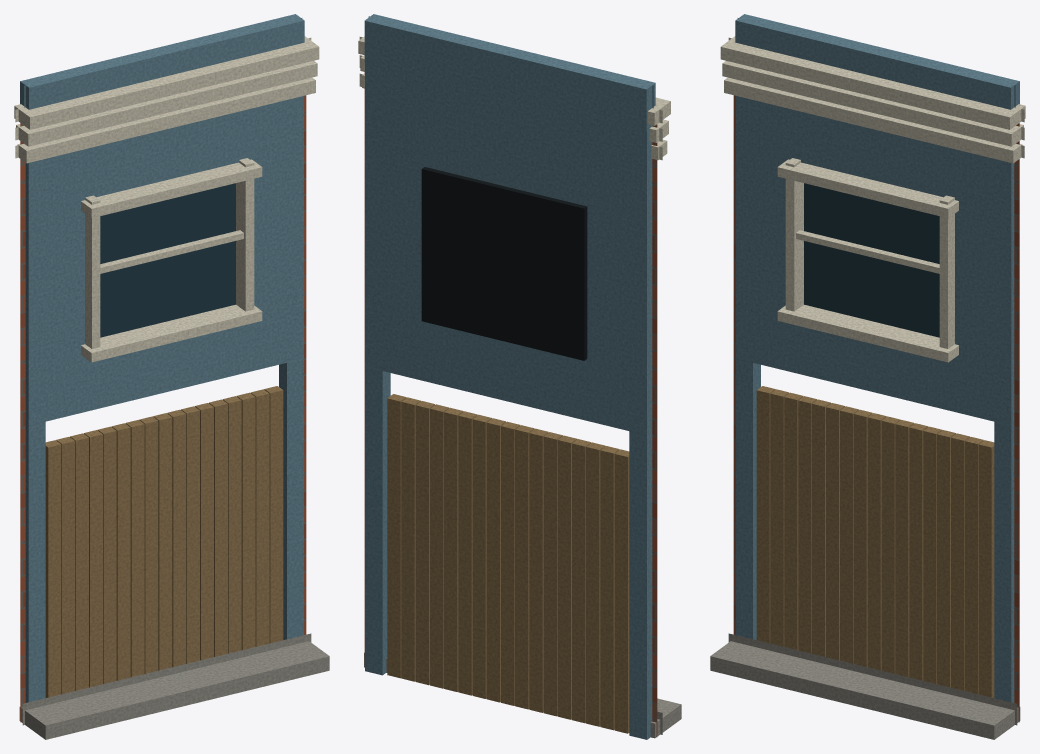
Rendered from WRHS6_lod2.glb.
3 views of the same model, side by side, from view 1: azimuth 30°, elevation 25°; view 2: azimuth 150°, elevation 25°; view 3: azimuth 330°, elevation 25° (orthographic). The views are drawn at different scales.
Visible parts, largest first — view 1: WRHS6_FRONT_LOD2; view 2: WRHS6_FRONT_LOD2; view 3: WRHS6_FRONT_LOD2.
Part boxes in pixels (box(x1,y1,x2,y2)): WRHS6_FRONT_LOD2: box(14, 14, 329, 739); WRHS6_FRONT_LOD2: box(358, 14, 681, 739); WRHS6_FRONT_LOD2: box(710, 14, 1025, 739).
Bounding box in the file's own units: 3.44 × 7.05 × 0.65.
8 materials, 6 textured.
